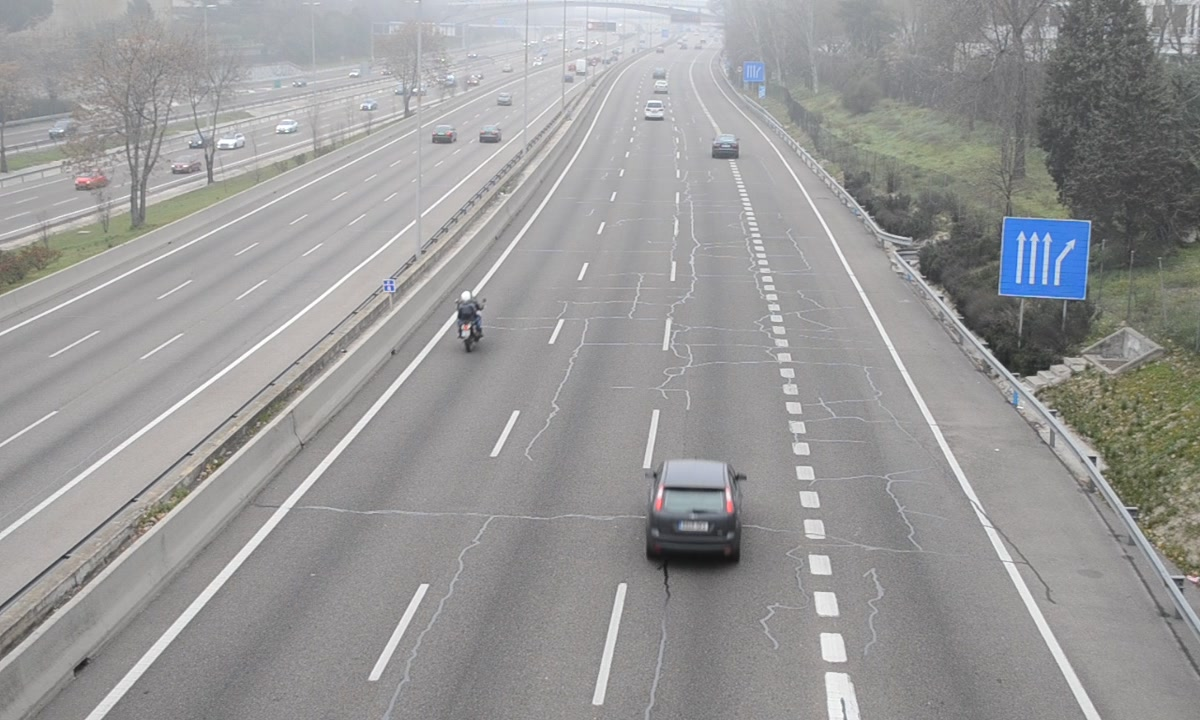car: (644, 459, 743, 562), (711, 134, 738, 158), (644, 100, 665, 121)
motorcycle: (453, 291, 484, 354)
